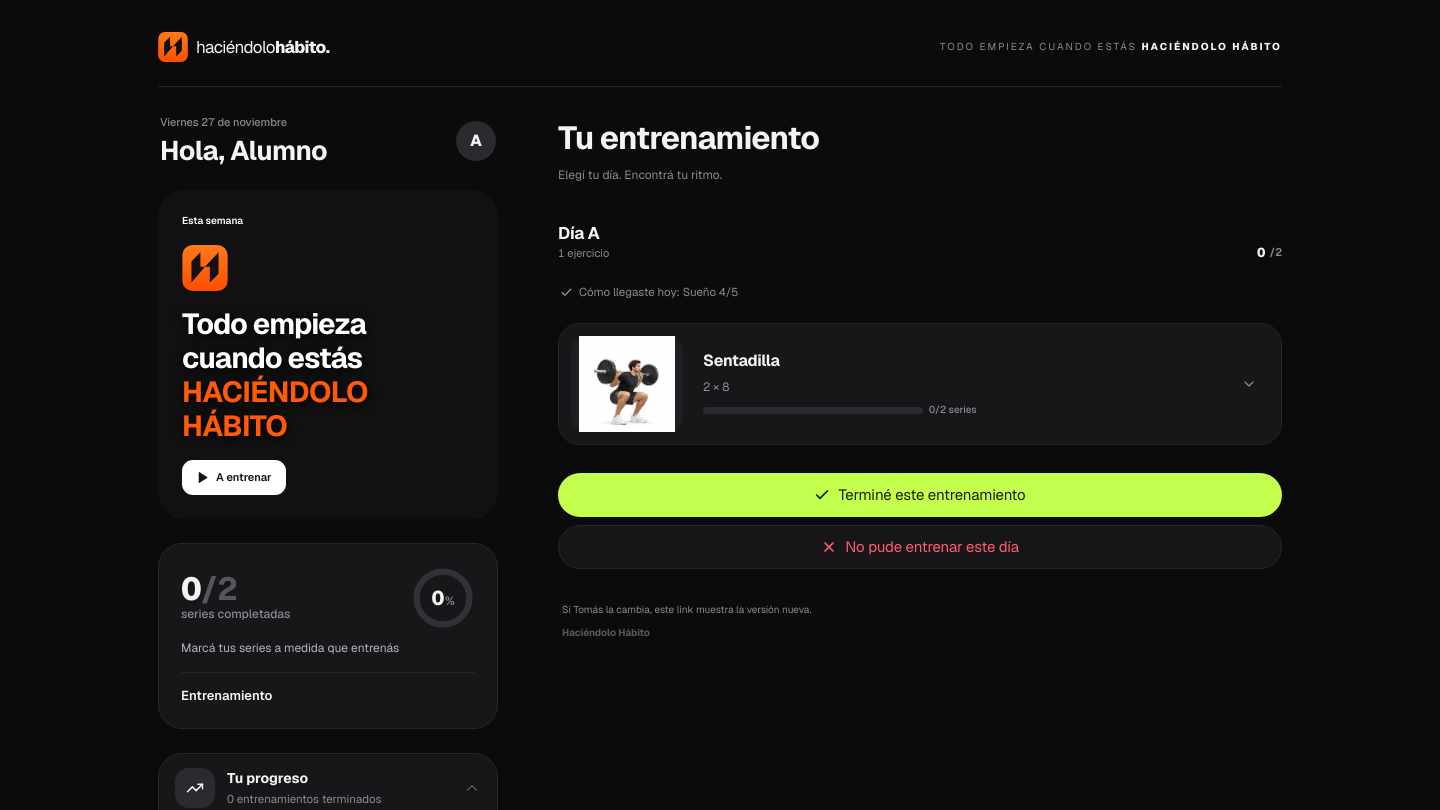
Test: registro del alumno en la rutina por link › marca un día como no entrenado con el motivo
This screenshot has width=1440, height=810.
Click the button "No pude entrenar este día": [920, 547] box x1=558 y1=525 x2=1282 y2=569
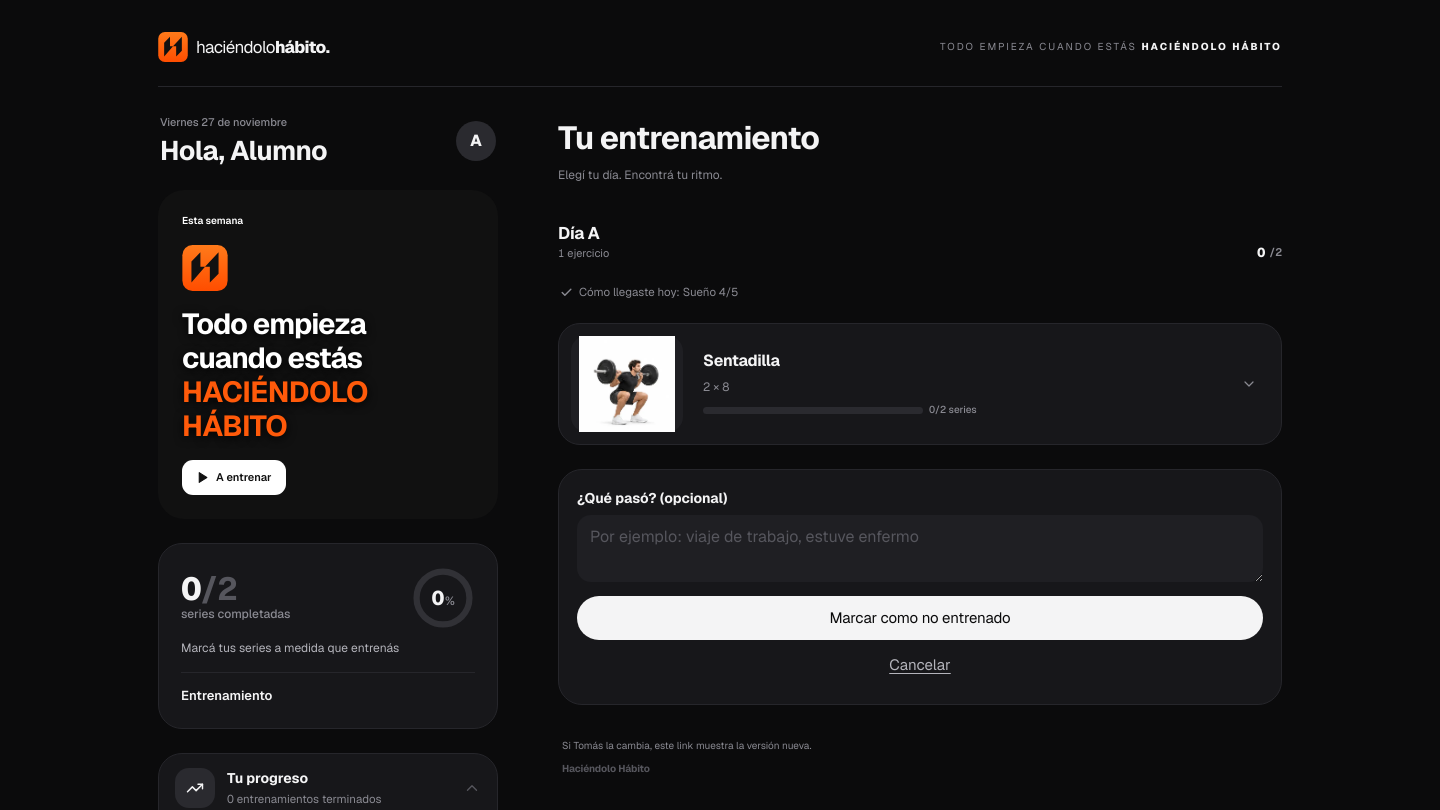
Click the button "Marcar como no entrenado": [920, 618] box x1=577 y1=596 x2=1263 y2=640
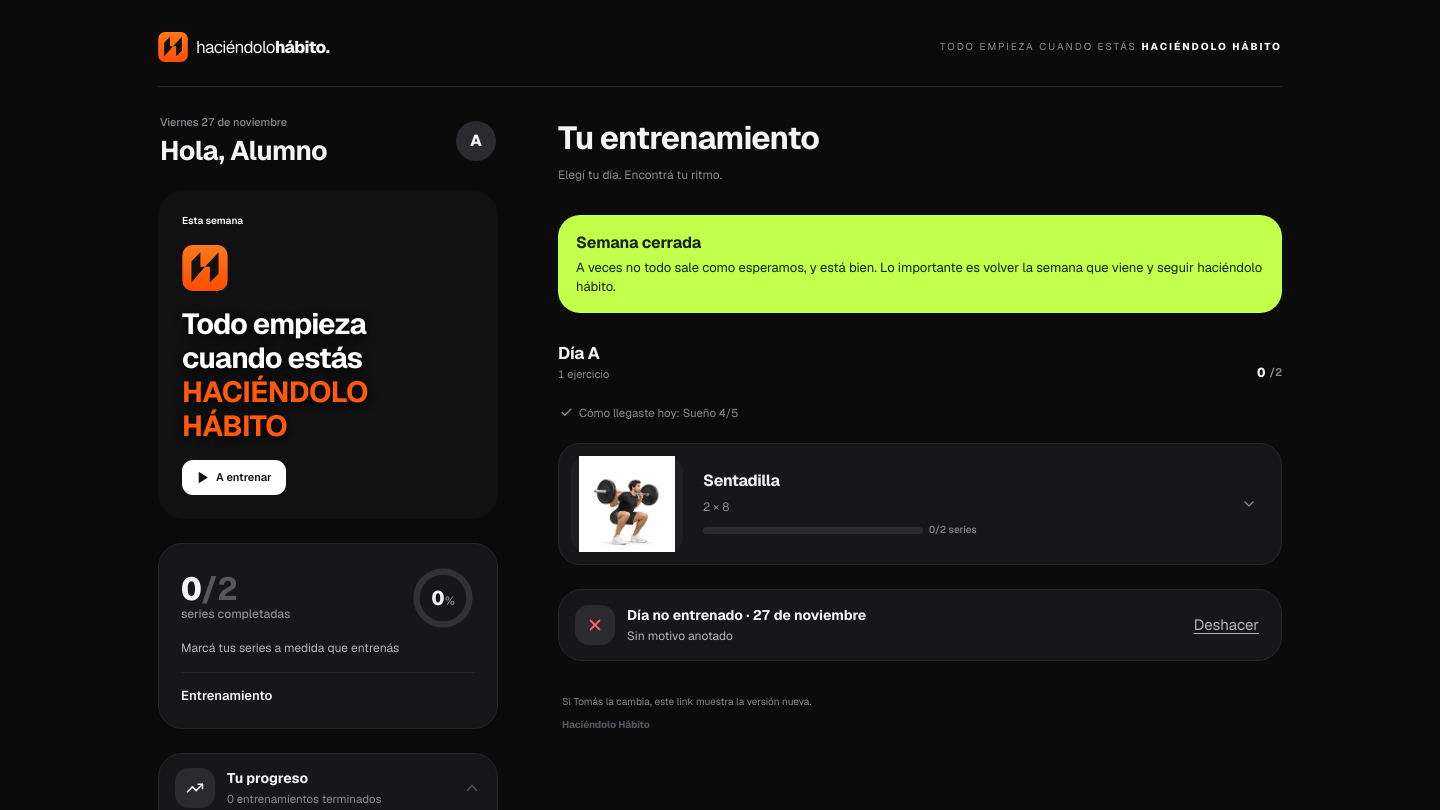
Check: the message "Día no entrenado · 27 de noviembre Sin motivo anotado Deshacer" is shown, box x1=558 y1=589 x2=1282 y2=661
